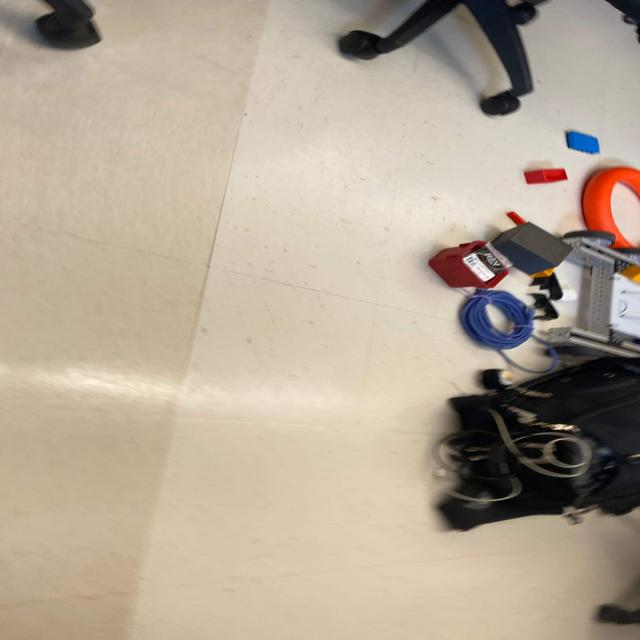red-specimen: (524, 168, 568, 185)
yellow-specimen: (620, 266, 640, 283), (530, 268, 555, 278)
